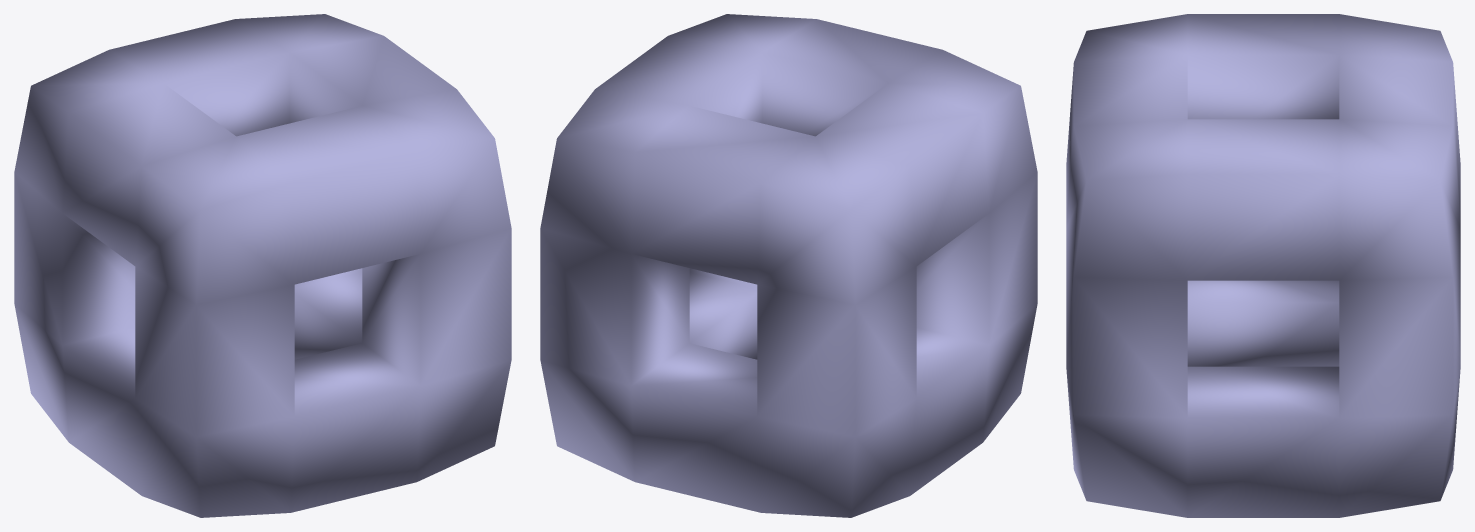
3 renders of one model, left to right at view 1: azimuth 30°, elevation 25°; view 2: azimuth 150°, elevation 25°; view 3: azimuth 270°, elevation 25°, orthographic. The views are drawn at different scales.
Bounding box in the file's own units: 0.13 × 0.13 × 0.13.
